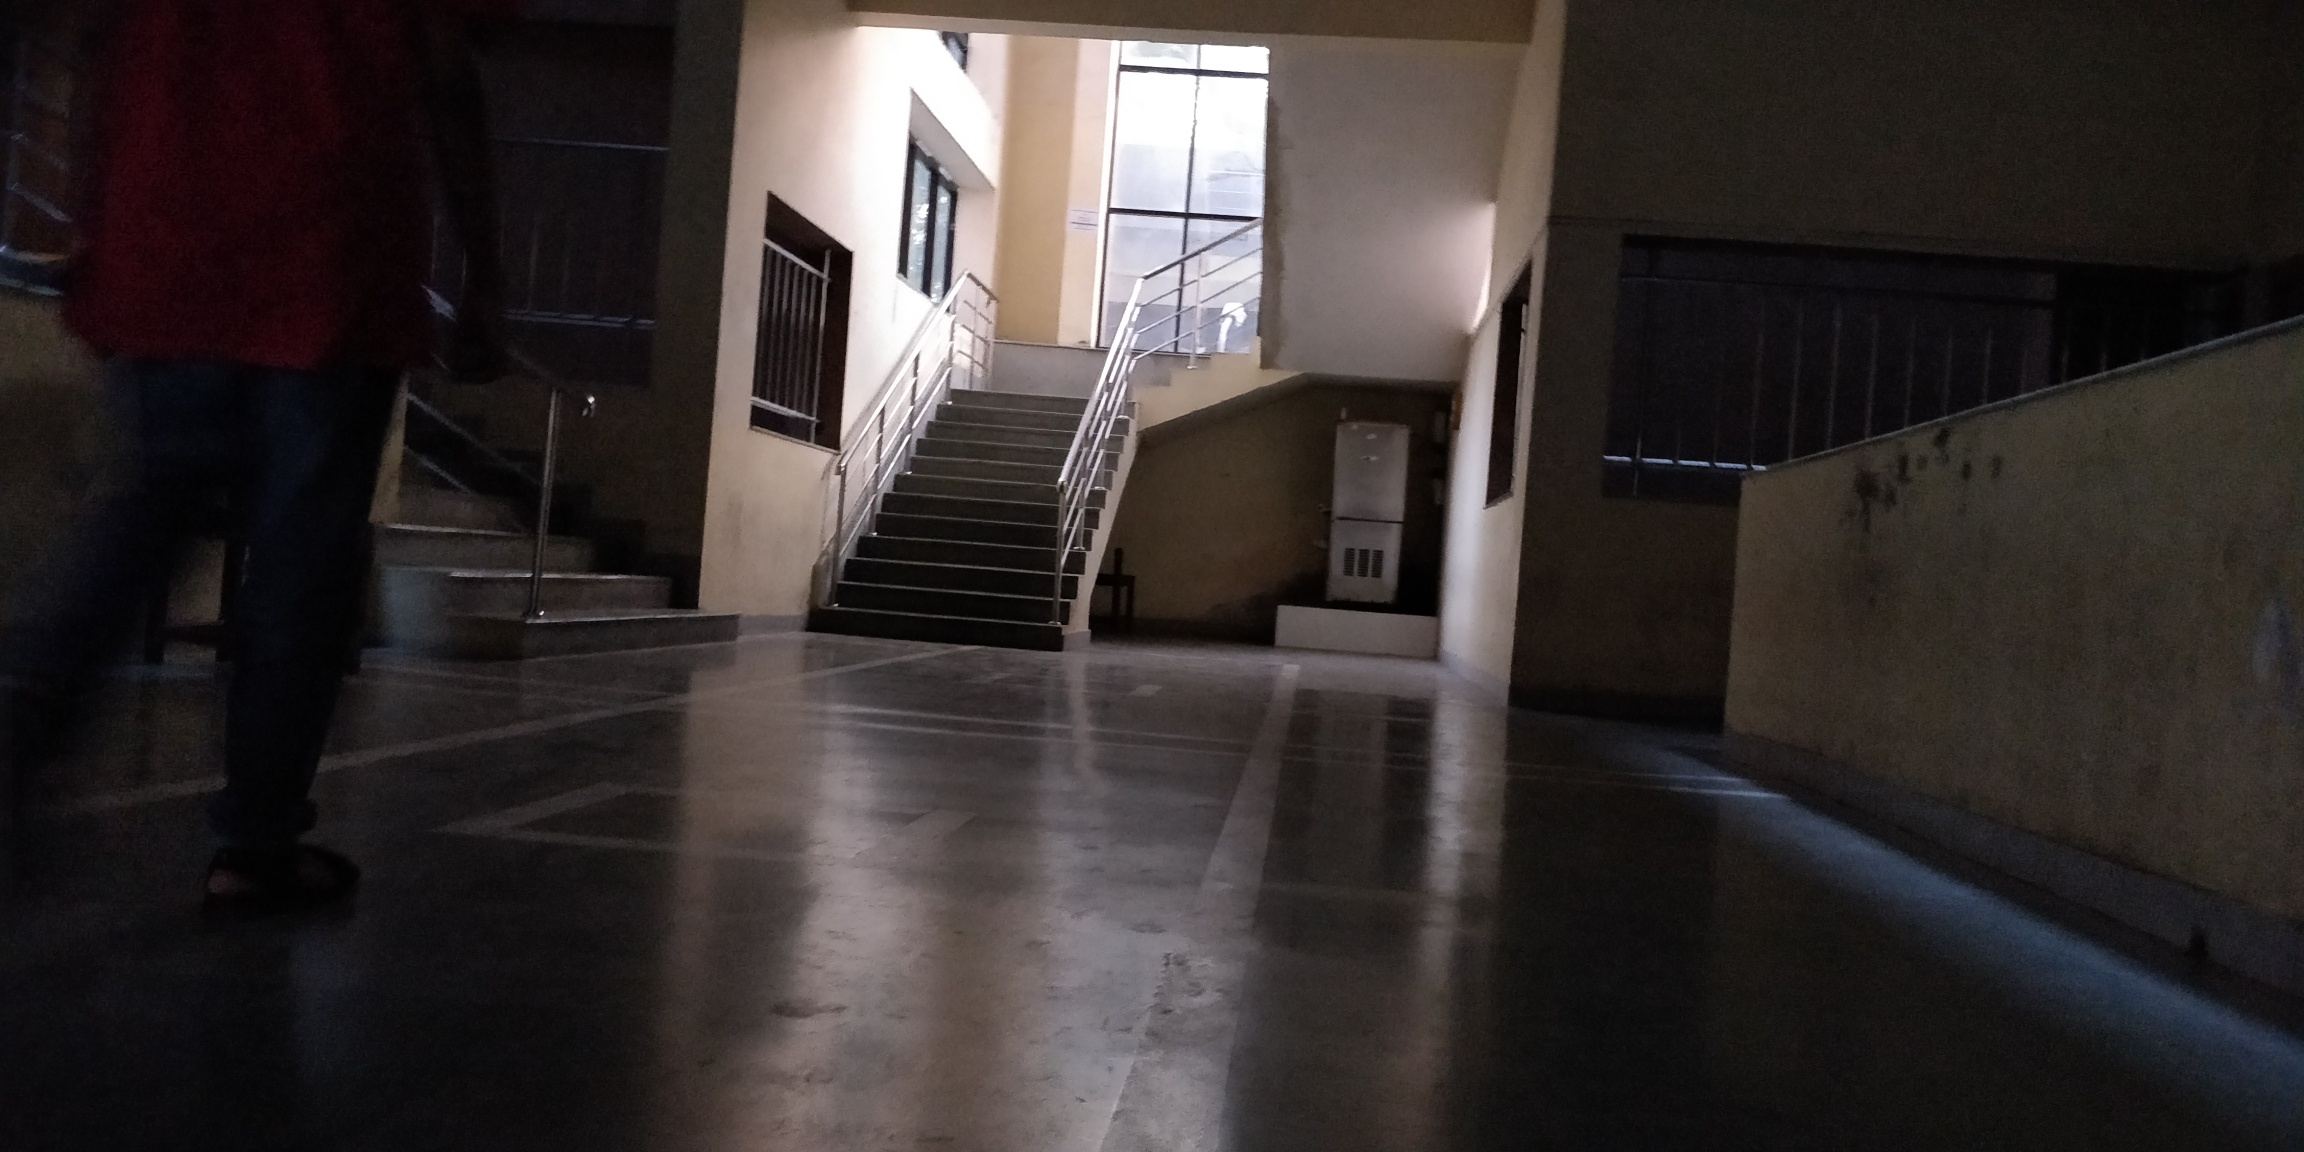stairs_up: (835, 386, 1128, 627)
